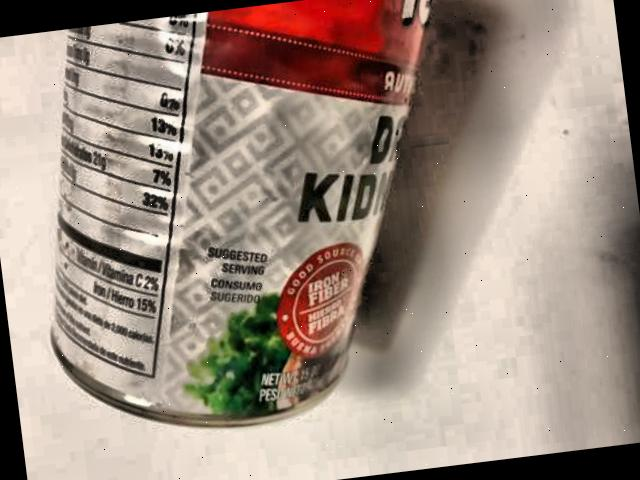Almennt: (4, 0, 495, 452)
